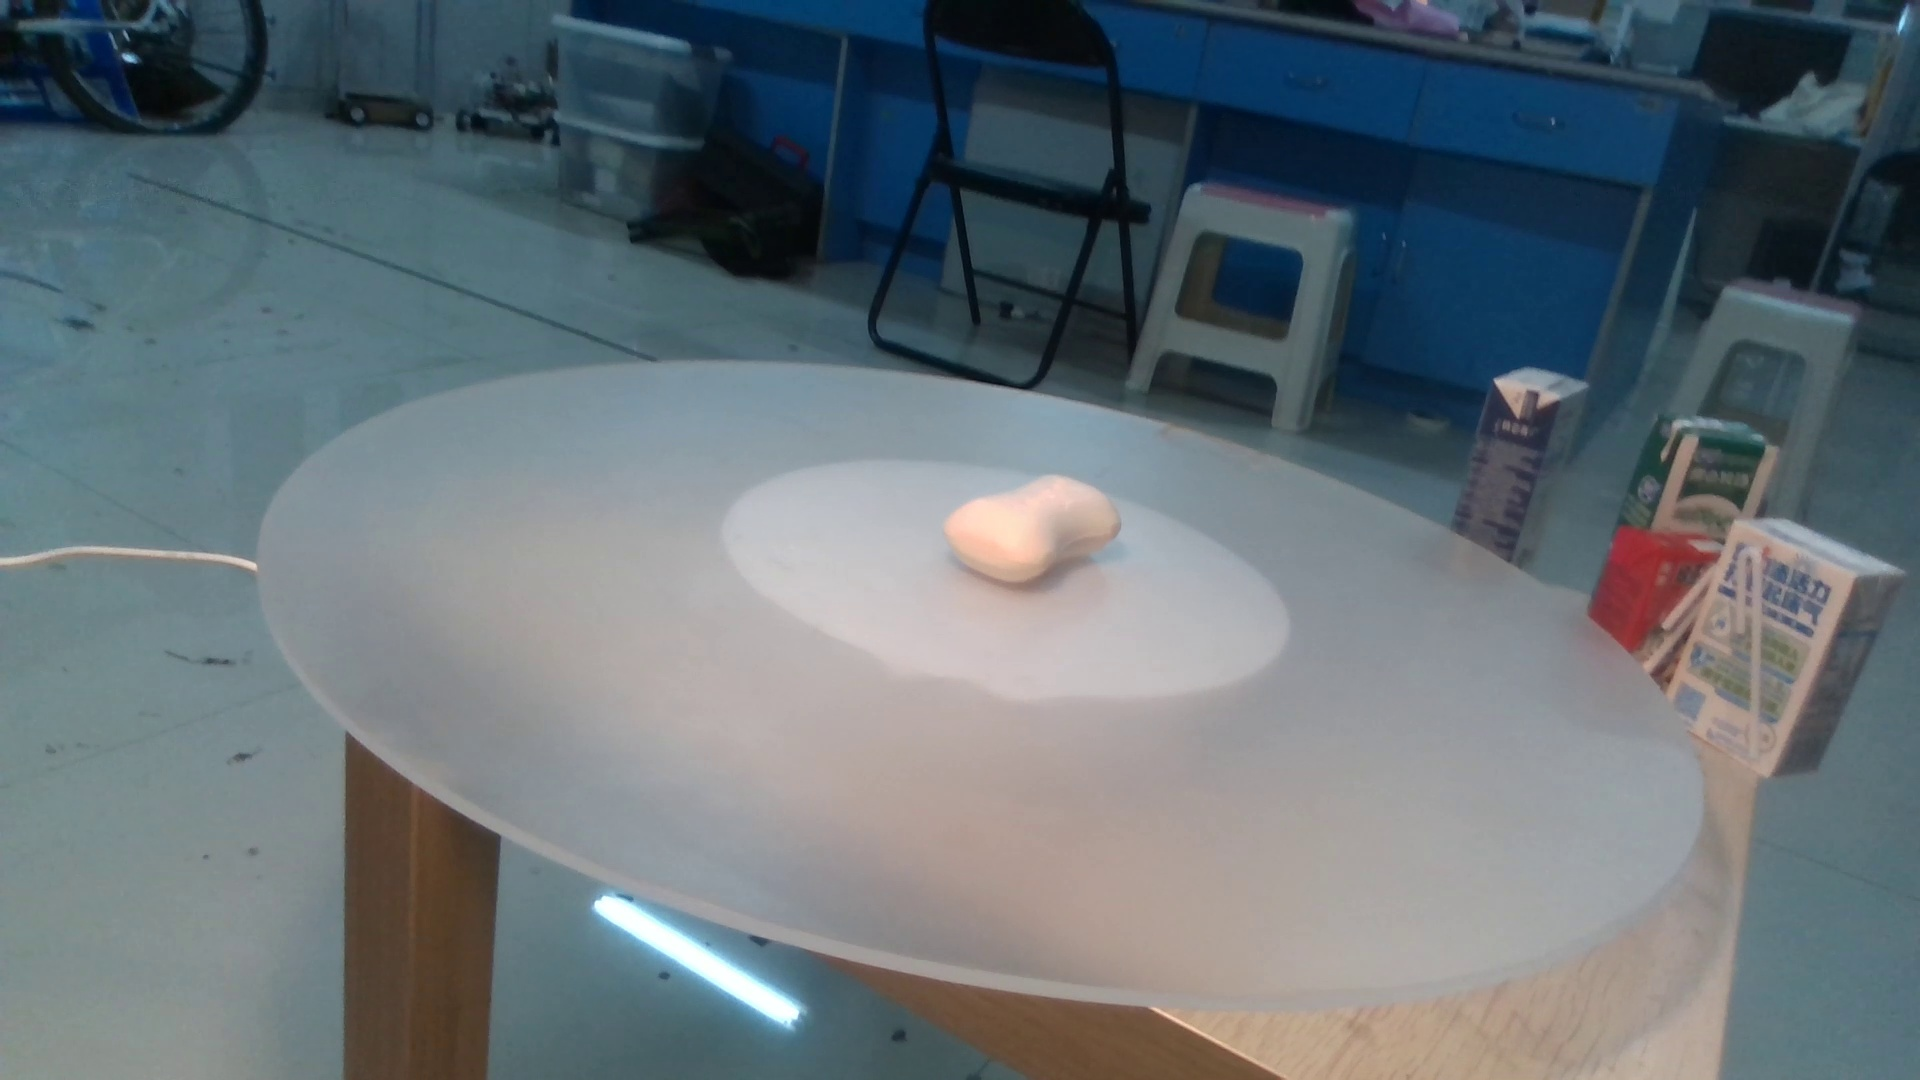CA003_1: (928, 440, 1154, 609)
